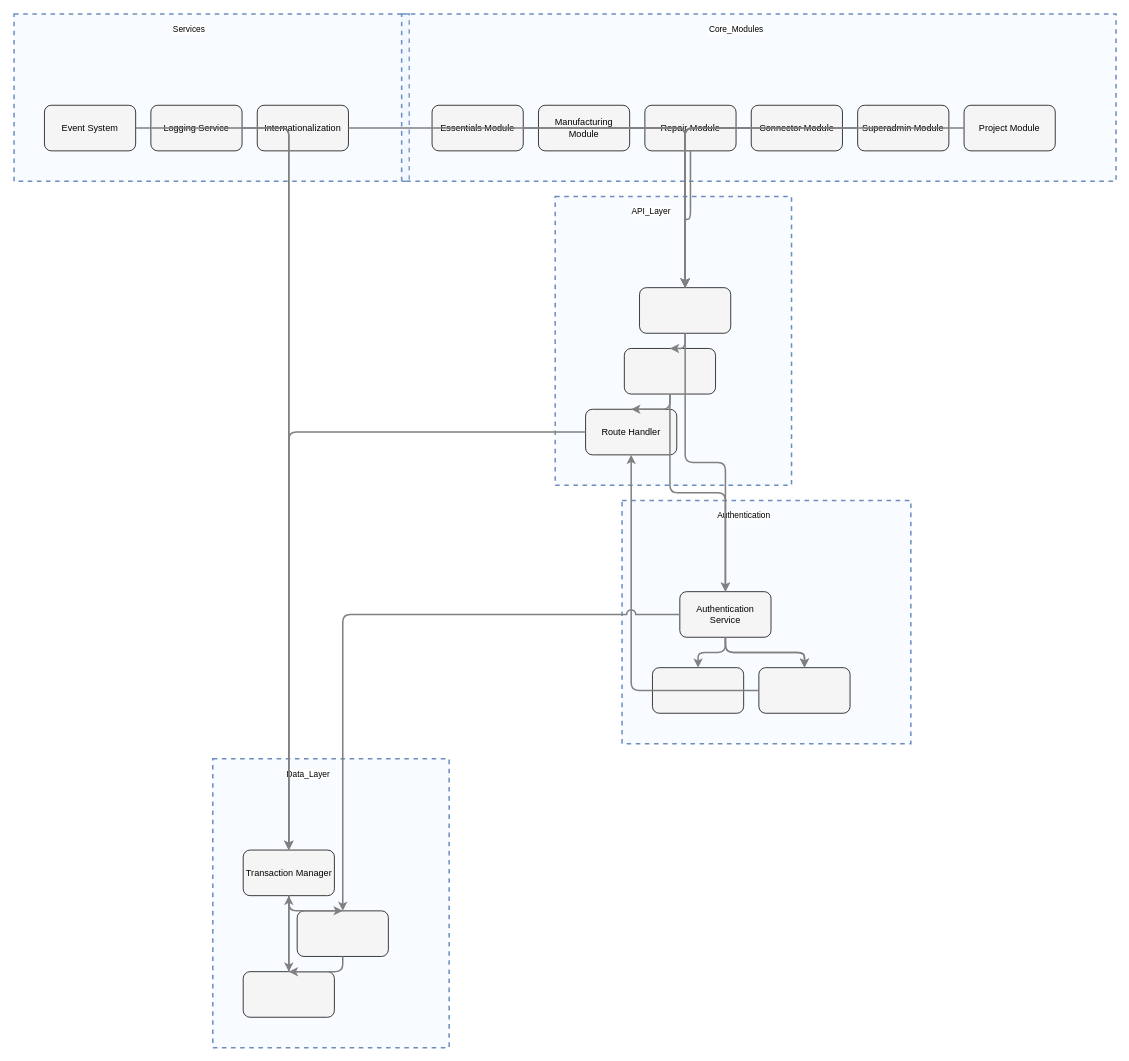
The diagram is 1129 pixels wide and 1061 high, and some of its shapes have lost their labels. Each missing label, with the centre of its shape:
"API Gateway" belongs at [685,310].
"API Middleware" belongs at [670,371].
"Cache" belongs at [342,933].
"Database" belongs at [288,994].
"Permissions" belongs at [804,690].
"Role Management" belongs at [698,690].
